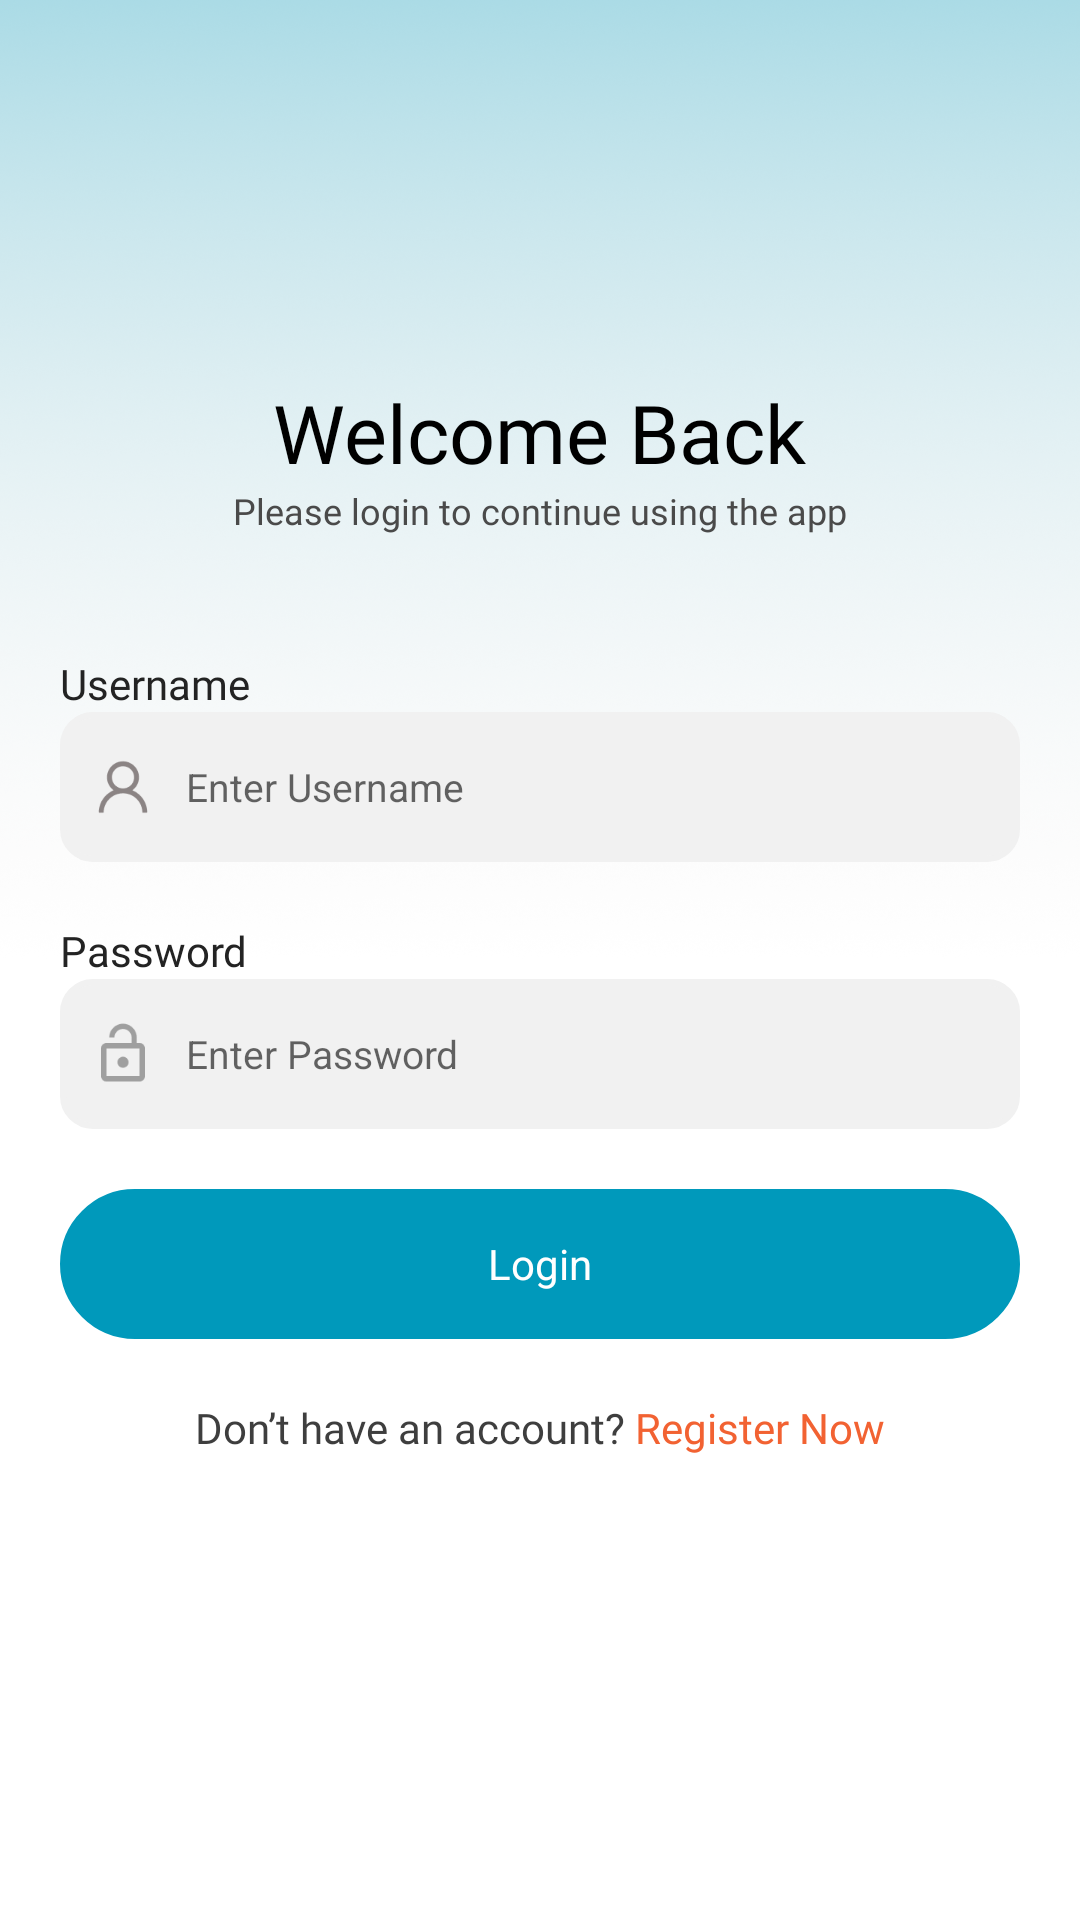

Point at icon controls on the screen. Image size 1080w x 1920h, points as [x,y].
person: [123,787]
